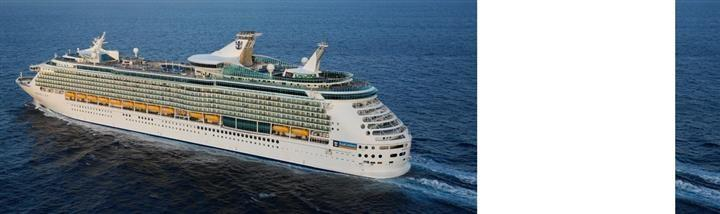youlun: (13, 22, 414, 183)
